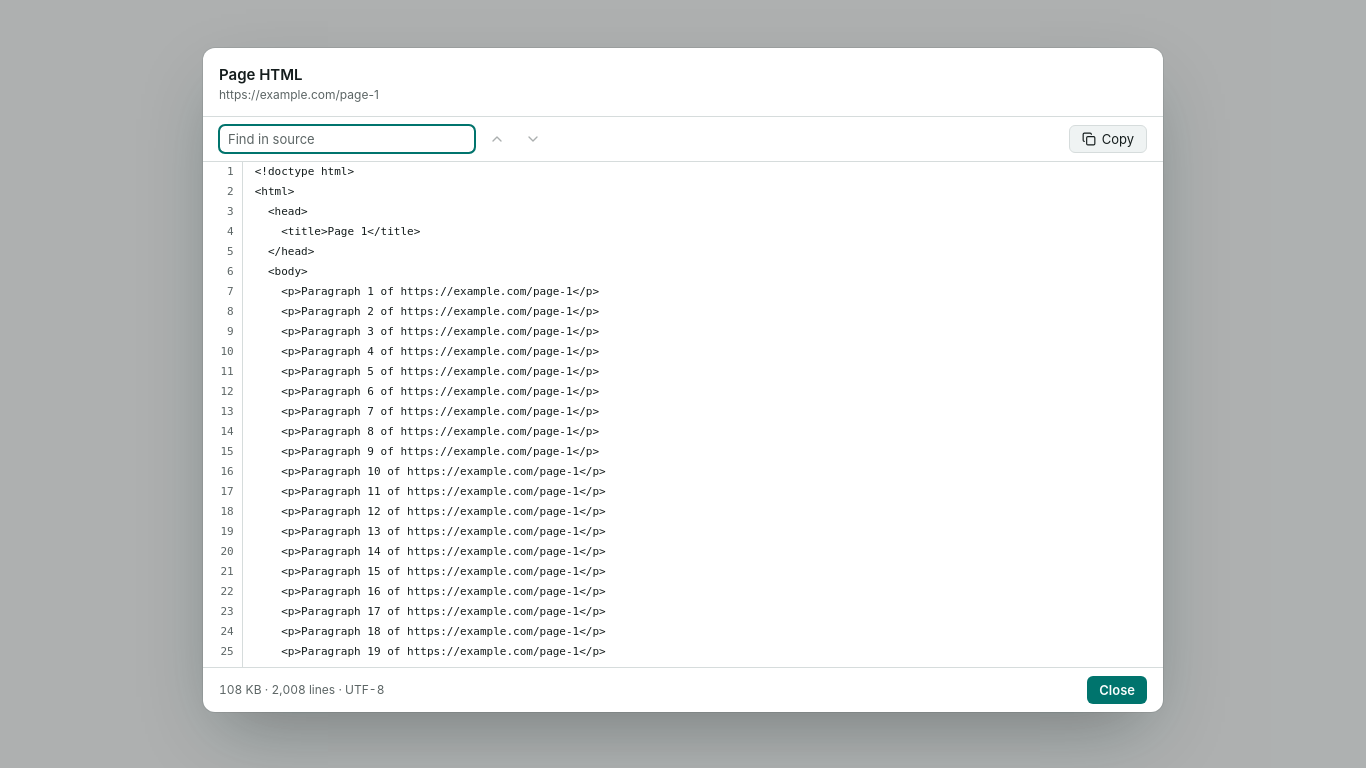
Scenario: copy › copies_the_whole_source
Click the button "Copy" at [1108, 139], box top-left (1069, 125), bottom-right (1147, 153)
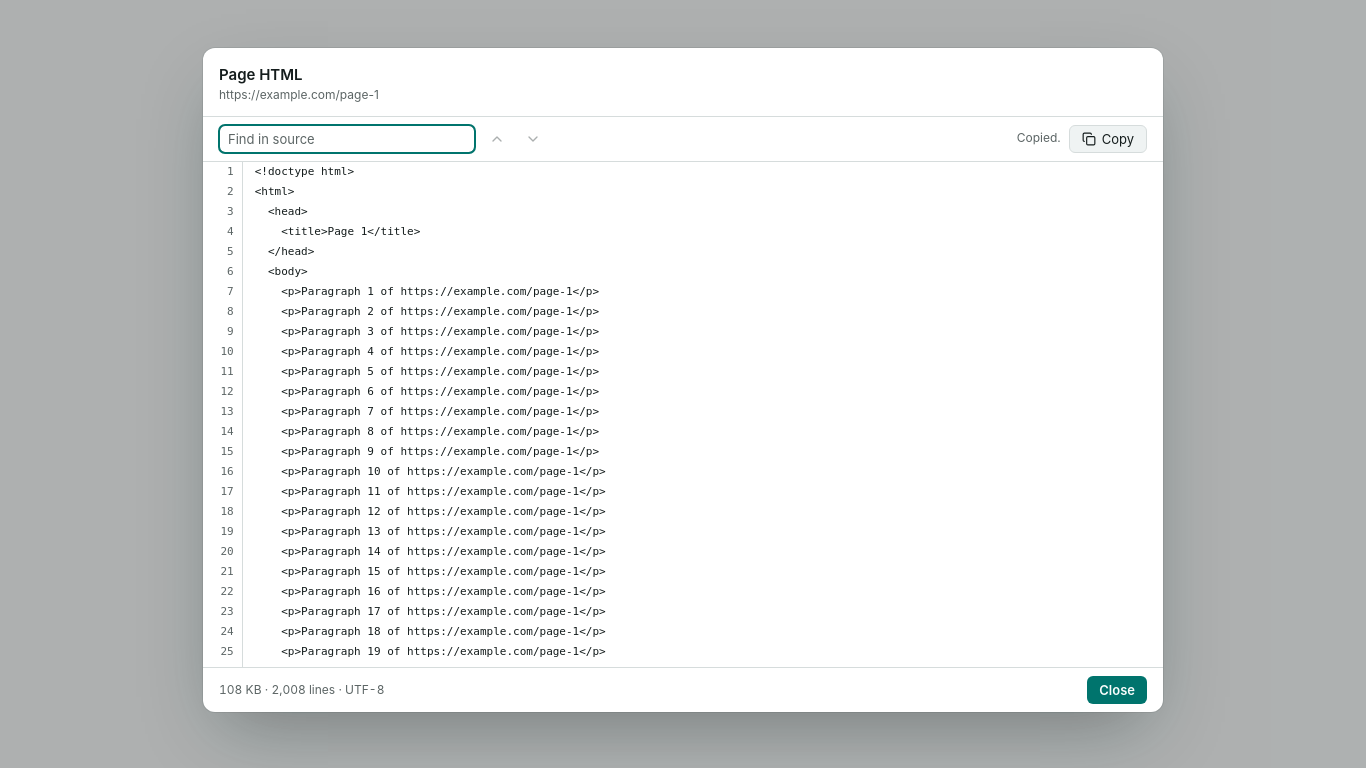
Check: the text "Copied." is shown, box top-left (1017, 130), bottom-right (1061, 147)
